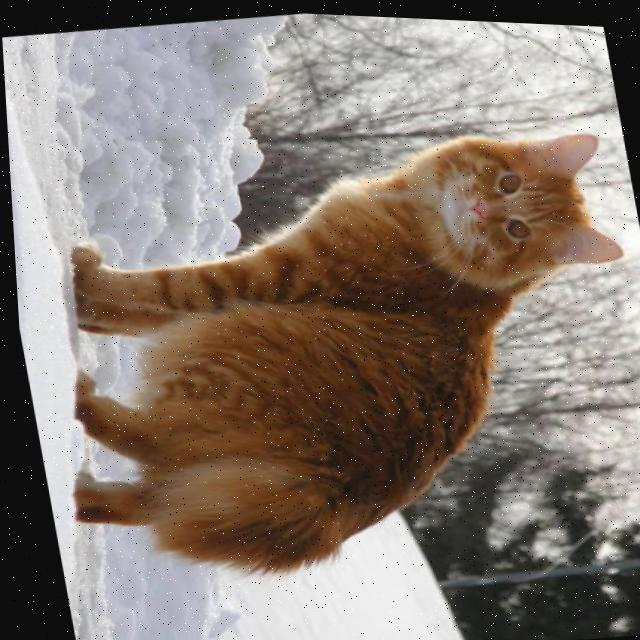American Bobtail: (4, 94, 640, 613)
